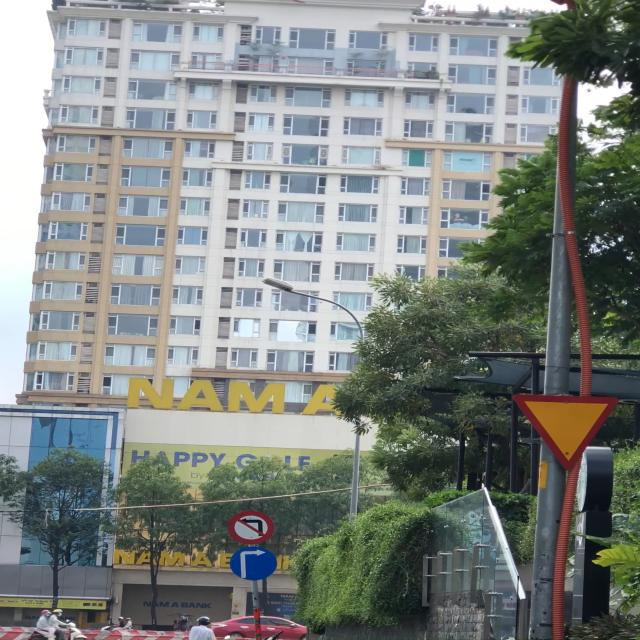Bien bao cam re trai: (228, 510, 280, 544)
Bien bao giao nhau voi duong uu tien: (502, 386, 620, 474)
Bien bao huong di phai theo: (226, 542, 283, 582)
